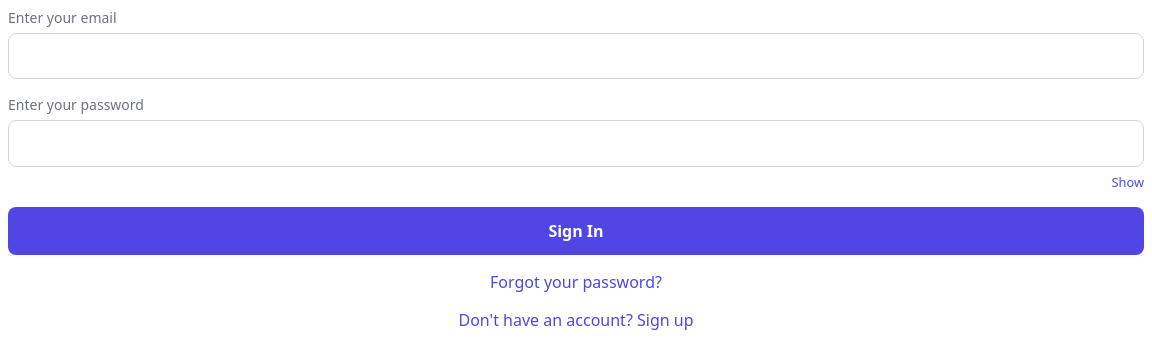
it: AuthKitEmailComponent › rejects a password shorter than the configured minimum
Click the button with class "ak-link" showing "Don't have an account? Sign up": (576, 320) x1=8 y1=309 x2=1144 y2=331
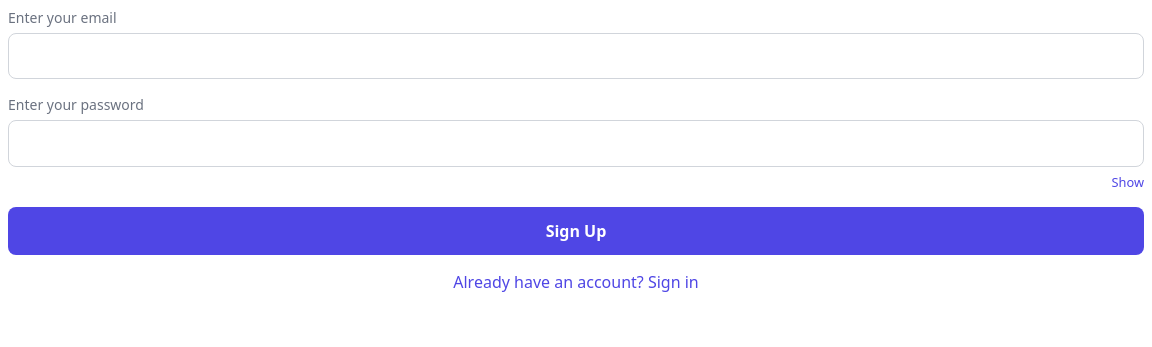
In the field with id "ak-email": (576, 56) x1=8 y1=33 x2=1144 y2=79, type "ada@example.com"
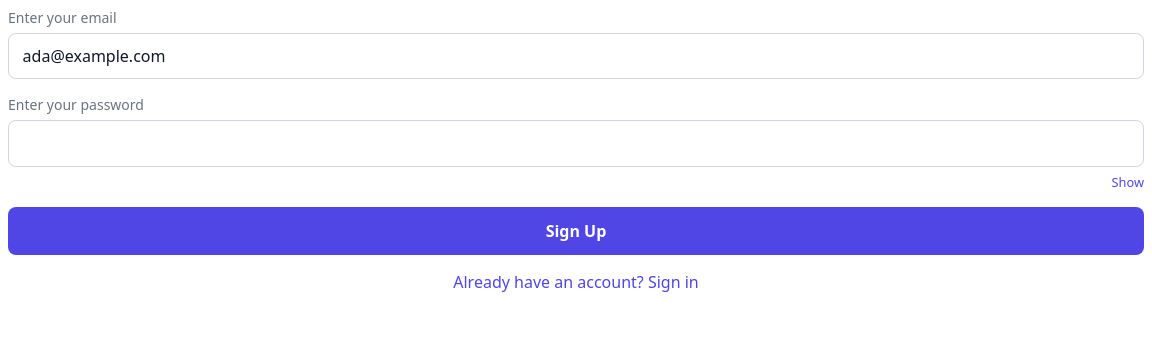
In the password field with id "ak-password": (576, 144) x1=8 y1=120 x2=1144 y2=167, type "short"
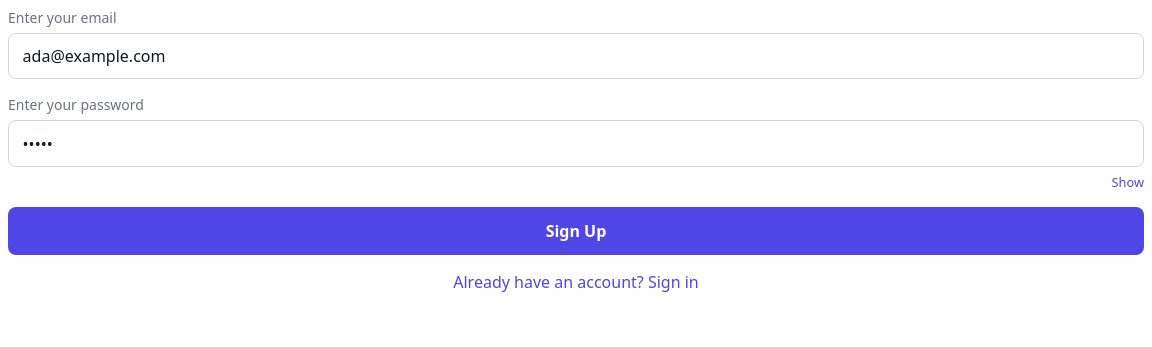
Submit the form
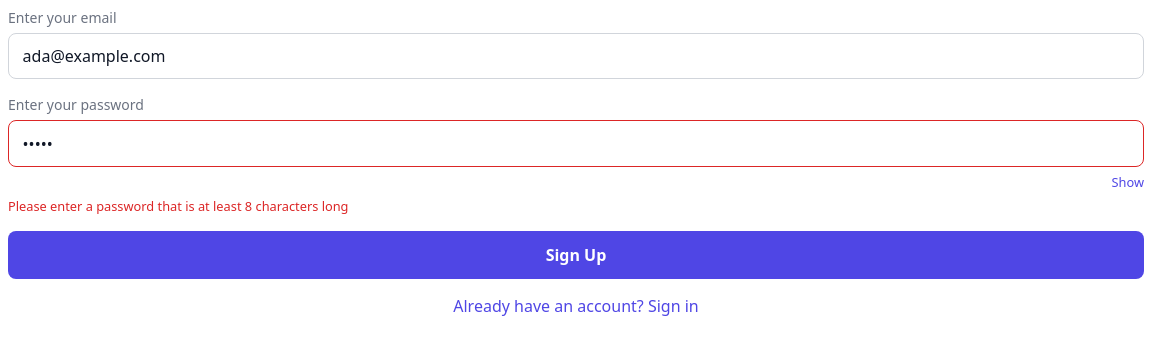
Now the text "at least 8 characters" is shown, box x1=8 y1=197 x2=348 y2=215
